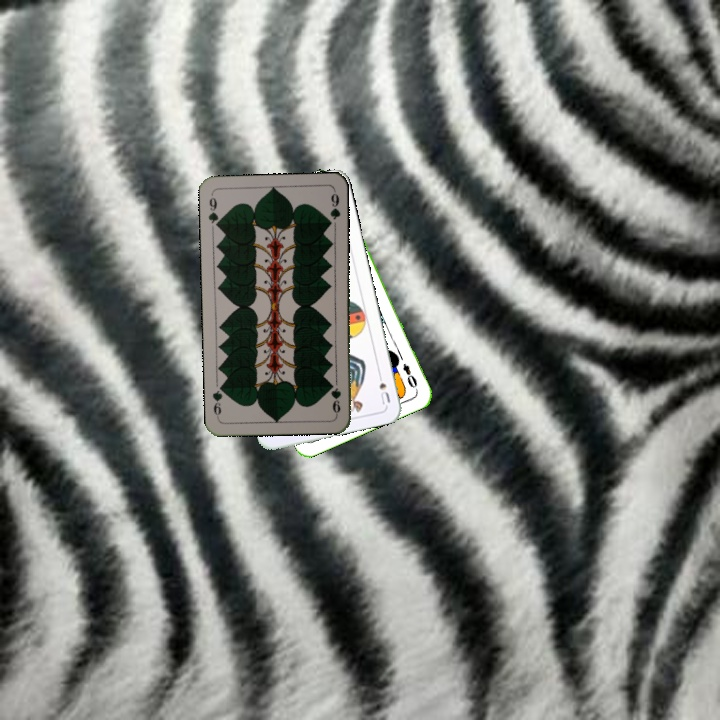EO: (399, 359, 420, 393)
G9: (204, 191, 223, 231), (328, 376, 344, 417)
SU: (374, 367, 393, 407)
